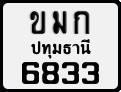letters: (20, 60, 40, 85), (81, 60, 100, 85), (41, 61, 60, 85), (61, 61, 80, 85), (29, 10, 47, 35), (73, 10, 91, 35), (51, 9, 68, 35)
province: (30, 38, 92, 59)
